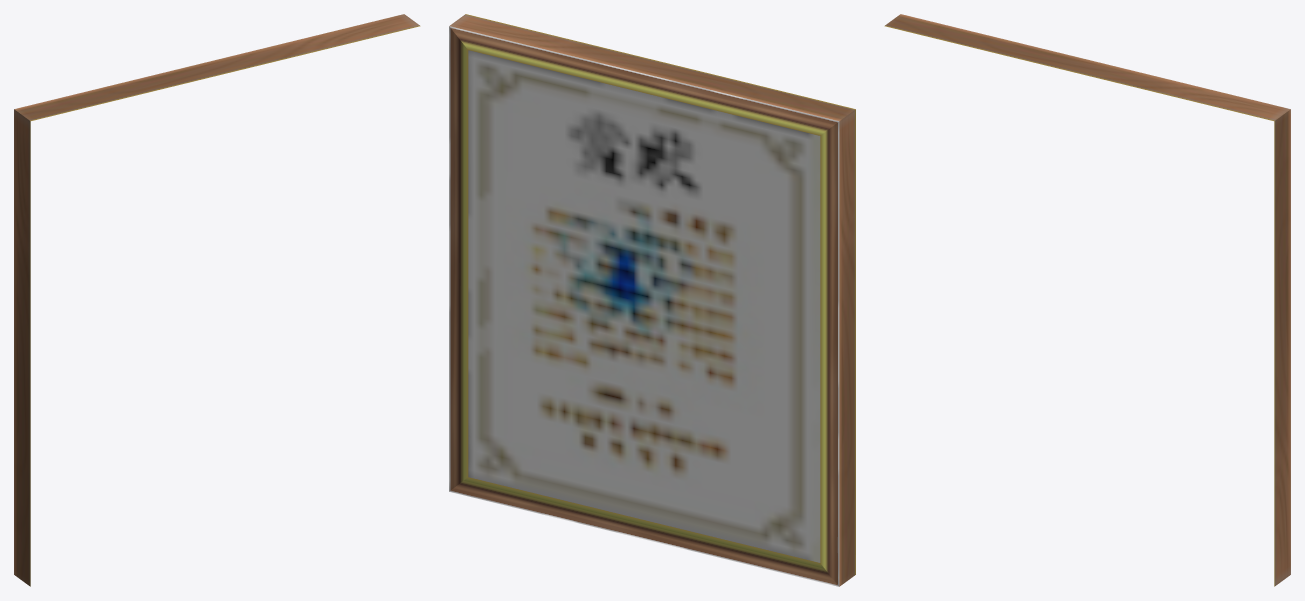
Rendered from a_SWAtestimonial.glb.
3 renders of one model, left to right at view 1: azimuth 30°, elevation 25°; view 2: azimuth 150°, elevation 25°; view 3: azimuth 330°, elevation 25°, orthographic.
Parts seen in each view (by area): view 1: a_SWAtestimonial; view 2: a_SWAtestimonial; view 3: a_SWAtestimonial.
Boxes of the visible parts, box(x1,y1,x2,y2) form: a_SWAtestimonial: box(14, 14, 420, 586); a_SWAtestimonial: box(449, 14, 855, 586); a_SWAtestimonial: box(884, 14, 1290, 586).
Size of the model in its own units: 0.4358 by 0.4971 by 0.0321.
1 material, 1 textured.
